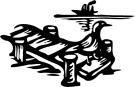bird: (75, 20, 111, 63)
boat: (68, 1, 98, 17)
